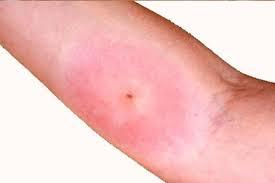Spider: (70, 30, 187, 155)
